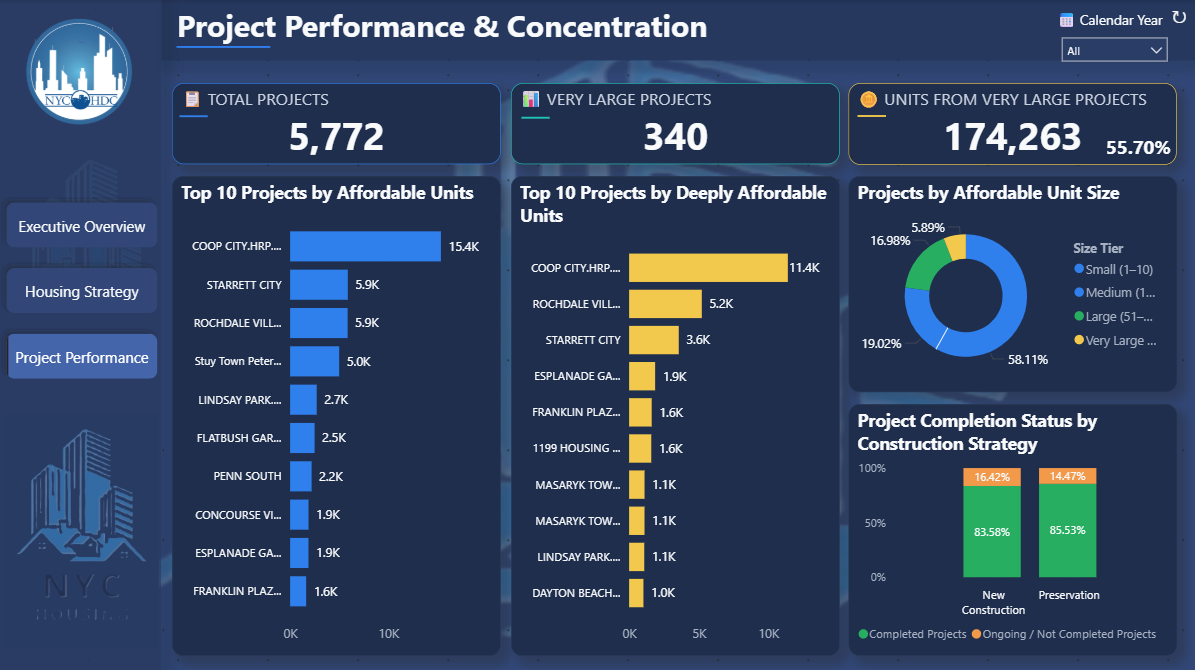

The page's visual inventory and layout, read from the dashboard file:
{"tool":"powerbi","page":{"name":"Project Performance","canvas":[1280,720],"ordinal":2},"visuals":[{"type":"image","box":[0,38.4,185.6,416],"z":0},{"type":"shape","box":[174.4,0,1105.6,65.6],"z":1000},{"type":"textbox","box":[185.6,0,653.3,56.7],"z":1000,"group":"g2"},{"type":"card","title":"🪙 UNITS FROM VERY LARGE PROJECTS","fields":{"Values":["affordable_housing housing_projects.Very Large Project Affordable Units_2"]},"box":[907.2,89.6,350,87.5],"z":1000,"group":"g6"},{"type":"group","id":"g1","title":"Group 4","box":[907.2,89.6,350,87.5],"z":2000},{"type":"shape","box":[0,0,174.4,720],"z":3000,"group":"g5"},{"type":"group","id":"g2","title":"Group 7","box":[185.6,0,654.4,57.6],"z":3000},{"type":"slicer","title":"📅 Calendar Year","fields":{"Values":["Date.Year"]},"box":[1124.8,11.2,132.8,60.8],"z":4000},{"type":"card","title":"📋 TOTAL PROJECTS","fields":{"Values":["affordable_housing housing_projects.Projects"]},"box":[185.6,89.6,350.7,86.8],"z":5000,"group":"g4"},{"type":"card","fields":{"Values":["affordable_housing housing_projects.Very Large Project Affordable Unit Share_2"]},"box":[1176,142.4,80,33.6],"z":5000},{"type":"card","title":"📊 VERY LARGE PROJECTS","fields":{"Values":["affordable_housing housing_projects.Very Large Projects_2"]},"box":[546.4,89.6,350.7,86.8],"z":6000,"group":"g3"},{"type":"clusteredBarChart","title":"Top 10 Projects by Affordable Units","fields":{"Y":["affordable_housing housing_projects.Affordable Units"],"Category":["affordable_housing housing_projects.project_name"]},"box":[185.6,188.8,350.4,512],"z":6000},{"type":"shape","box":[190.2,44.7,100.2,12.7],"z":7000,"group":"g2"},{"type":"shape","box":[916.5,109.4,30.4,32],"z":8000,"group":"g6"},{"type":"clusteredBarChart","title":"Top 10 Projects by Deeply Affordable Units","fields":{"Category":["affordable_housing housing_projects.project_name"],"Y":["affordable_housing housing_projects.Deeply Affordable Units"]},"box":[547.2,188.8,350.4,512],"z":8000},{"type":"hundredPercentStackedColumnChart","title":"Project Completion Status by Construction Strategy","fields":{"Category":["affordable_housing housing_projects.reporting_construction_type"],"Y":["affordable_housing housing_projects.Completed Projects","affordable_housing housing_projects.Not Completed Projects"]},"box":[907.2,432,350.4,268.8],"z":9000},{"type":"group","id":"g3","title":"Group 2","box":[546.4,89.6,350.7,86.8],"z":10000},{"type":"group","id":"g4","title":"Group 3","box":[185.6,89.6,350.7,86.8],"z":11000},{"type":"group","id":"g5","title":"Group 10","box":[0,0,179.2,720],"z":12000},{"type":"image","box":[0,416,176,304],"z":13000},{"type":"actionButton","box":[1240,0,40,33.6],"z":14000},{"type":"donutChart","title":"Projects by Affordable Unit Size","fields":{"Category":["Project Size.Size Tier"],"Y":["affordable_housing housing_projects.Projects by Size Tier"]},"box":[907.2,188.8,350.4,230.4],"z":15000},{"type":"shape","box":[194.2,109.2,30,32.5],"z":16000,"group":"g4"},{"type":"shape","box":[557.5,110,30,32.5],"z":17000,"group":"g3"},{"type":"pageNavigator","box":[0,208,179.2,208],"z":17000,"group":"g5"},{"type":"group","id":"g6","title":"Group 1","box":[907.2,89.6,350,87.5],"z":17001,"group":"g1"},{"type":"image","box":[4.8,3.2,171.2,151.8],"z":17750,"group":"g7"},{"type":"group","id":"g7","title":"Group 8","box":[4.8,3.2,171.2,151.8],"z":18000,"group":"g5"},{"type":"image","box":[42.1,89.1,94.1,36.5],"z":19000,"group":"g7"}]}

Visuals, with their boxes in screenshot pixels (x1, y1, x2, y2), scaled from the page's 1280x720 canvas onto the 1195x670 screenshot:
image: detection(0, 36, 173, 423)
shape: detection(163, 0, 1194, 61)
textbox: detection(173, 0, 783, 53)
"🪙 UNITS FROM VERY LARGE PROJECTS" card: detection(847, 83, 1174, 165)
"Group 4" group: detection(847, 83, 1174, 165)
shape: detection(0, 0, 163, 669)
"Group 7" group: detection(173, 0, 784, 54)
"📅 Calendar Year" slicer: detection(1050, 10, 1174, 67)
"📋 TOTAL PROJECTS" card: detection(173, 83, 501, 164)
card - affordable_housing housing_projects.Very Large Project Affordable Unit Share_2: detection(1098, 133, 1173, 164)
"📊 VERY LARGE PROJECTS" card: detection(510, 83, 838, 164)
"Top 10 Projects by Affordable Units" clusteredBarChart: detection(173, 176, 500, 652)
shape: detection(178, 42, 271, 53)
shape: detection(856, 102, 884, 132)
"Top 10 Projects by Deeply Affordable Units" clusteredBarChart: detection(511, 176, 838, 652)
"Project Completion Status by Construction Strategy" hundredPercentStackedColumnChart: detection(847, 402, 1174, 652)
"Group 2" group: detection(510, 83, 838, 164)
"Group 3" group: detection(173, 83, 501, 164)
"Group 10" group: detection(0, 0, 167, 669)
image: detection(0, 387, 164, 669)
actionButton: detection(1158, 0, 1194, 31)
"Projects by Affordable Unit Size" donutChart: detection(847, 176, 1174, 390)
shape: detection(181, 102, 209, 132)
shape: detection(520, 102, 548, 133)
pageNavigator: detection(0, 194, 167, 387)
"Group 1" group: detection(847, 83, 1174, 165)
image: detection(4, 3, 164, 144)
"Group 8" group: detection(4, 3, 164, 144)
image: detection(39, 83, 127, 117)
